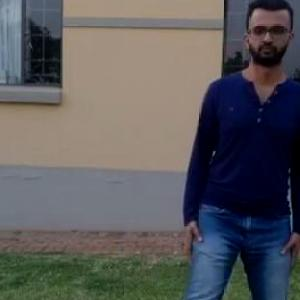follow: (196, 0, 299, 299)
